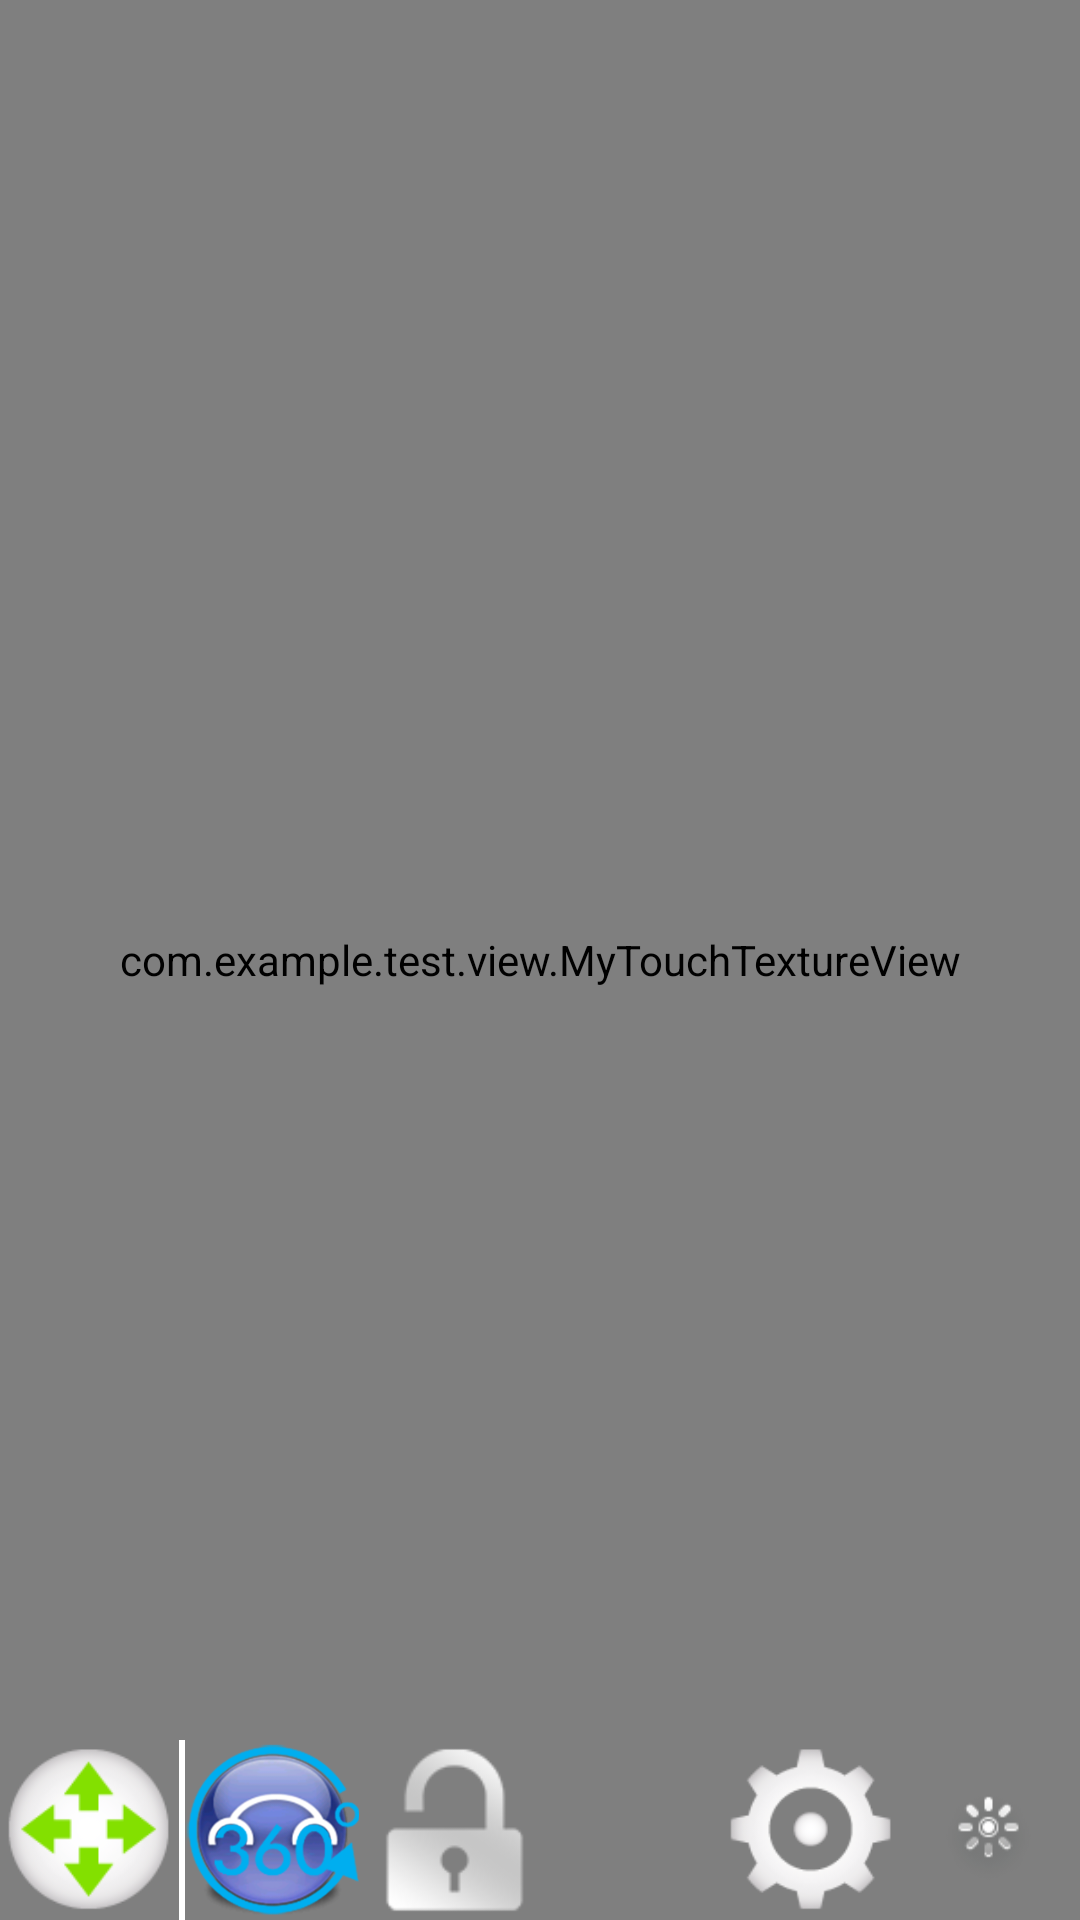

Icons on this 1080w x 1920h Android screen, each with the point to tap as (x,y):
lock: (454,1830)
ly brightness: (988,1827)
set press: (811,1829)
